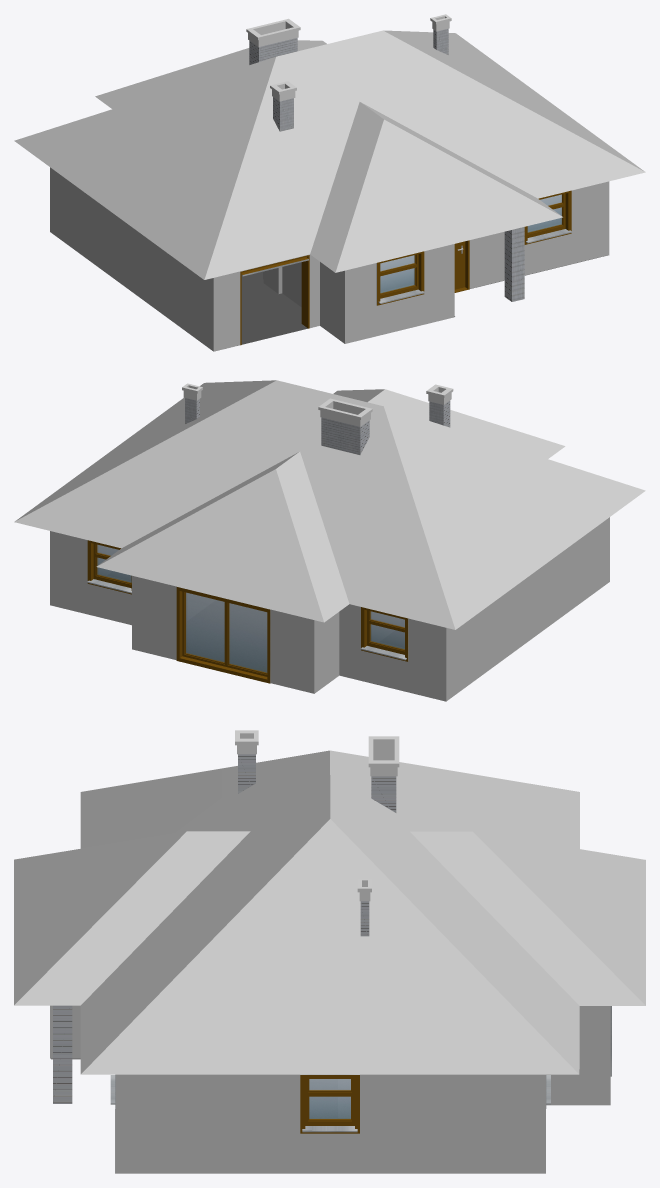
The model's file is casa1.obj.
3 renders of one model, top to bottom at view 1: azimuth 30°, elevation 25°; view 2: azimuth 150°, elevation 25°; view 3: azimuth 270°, elevation 25°, orthographic. The views are drawn at different scales.
Parts seen in each view (by area): view 1: mesh03, mesh06, mesh02, mesh07, mesh16, mesh05, mesh08, mesh01, mesh17, mesh14, mesh13, mesh18; view 2: mesh03, mesh06, mesh12, mesh16, mesh10, mesh09, mesh17, mesh18; view 3: mesh03, mesh06, mesh11, mesh16, mesh05, mesh17, mesh18.
Boxes of the visible parts, x1,y1,x2,y2 form: mesh03: (14, 30, 645, 279); mesh06: (50, 167, 609, 351); mesh02: (225, 255, 608, 348); mesh07: (376, 251, 424, 305); mesh16: (246, 18, 300, 64); mesh05: (504, 227, 524, 301); mesh08: (524, 190, 571, 244); mesh01: (263, 262, 301, 306); mesh17: (270, 81, 296, 131); mesh14: (240, 255, 309, 345); mesh13: (454, 240, 469, 292); mesh18: (430, 14, 451, 54); mesh03: (14, 380, 645, 629); mesh06: (50, 517, 609, 701); mesh12: (176, 586, 270, 683); mesh16: (318, 398, 372, 454); mesh10: (360, 607, 408, 661); mesh09: (87, 540, 131, 594); mesh17: (426, 384, 453, 427); mesh18: (182, 383, 202, 423); mesh03: (14, 750, 645, 1074); mesh06: (50, 1005, 610, 1173); mesh11: (300, 1074, 359, 1133); mesh16: (368, 736, 399, 812); mesh05: (53, 1005, 72, 1103); mesh17: (235, 730, 258, 793); mesh18: (357, 878, 371, 936).
Size of the model in its own units: 121 by 54.83 by 114.
